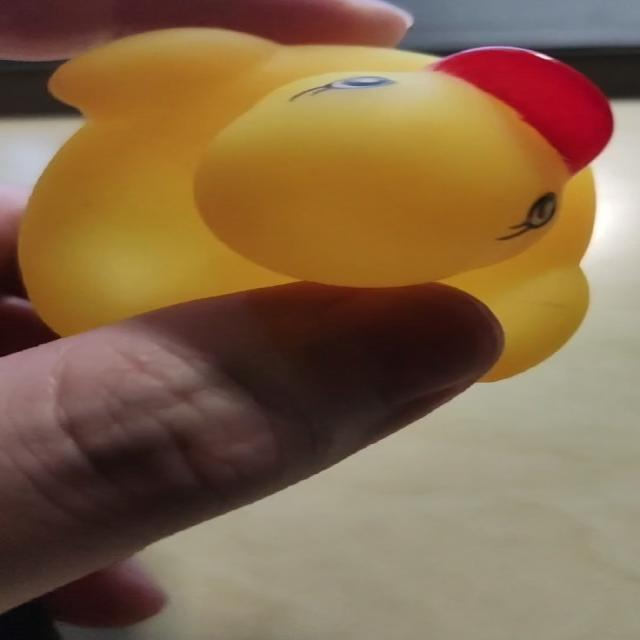rubber-duck: (18, 28, 604, 378)
